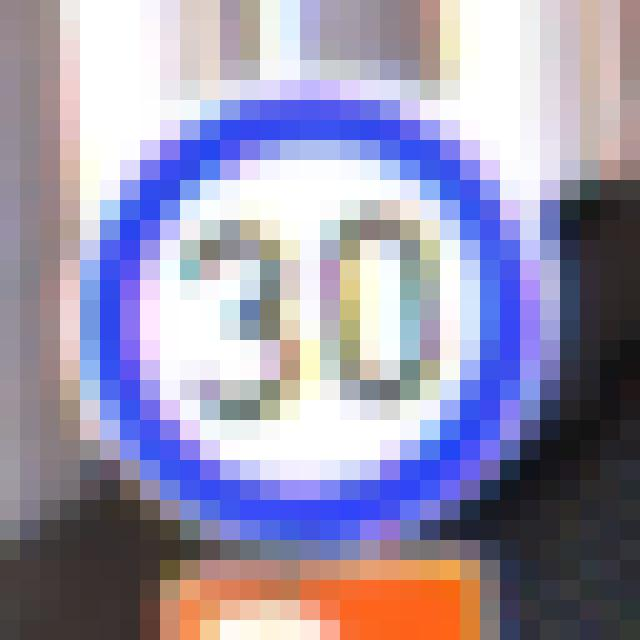SPEED LIMIT 30: (86, 86, 558, 538)
